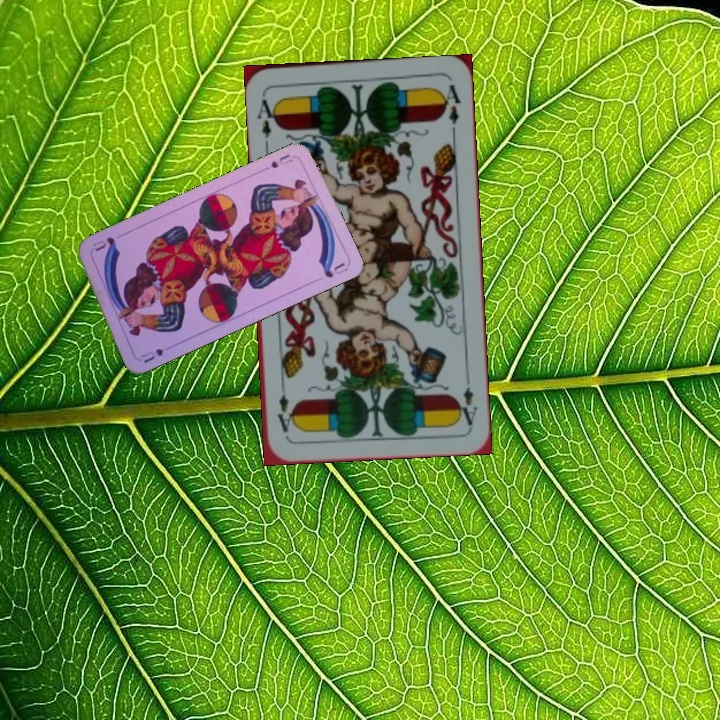EA: (253, 95, 281, 141), (454, 382, 480, 428)
SU: (138, 341, 177, 365), (267, 150, 299, 171)
